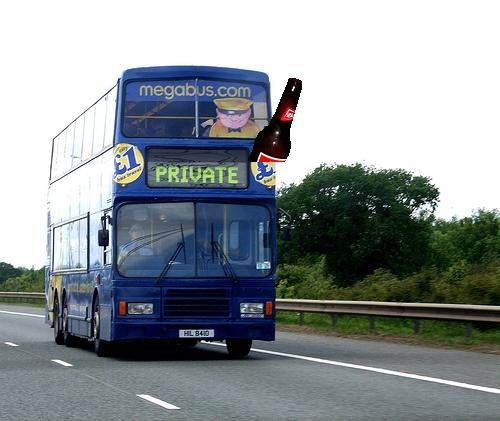tampered: (249, 79, 302, 162)
